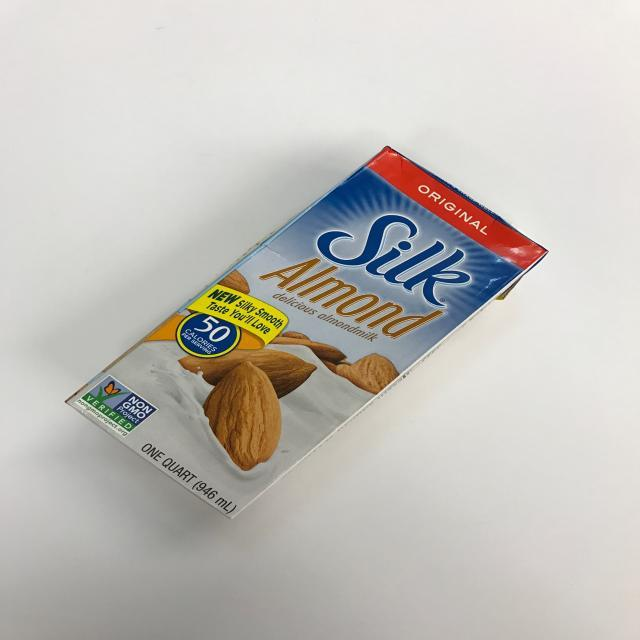paper: (58, 145, 550, 524)
